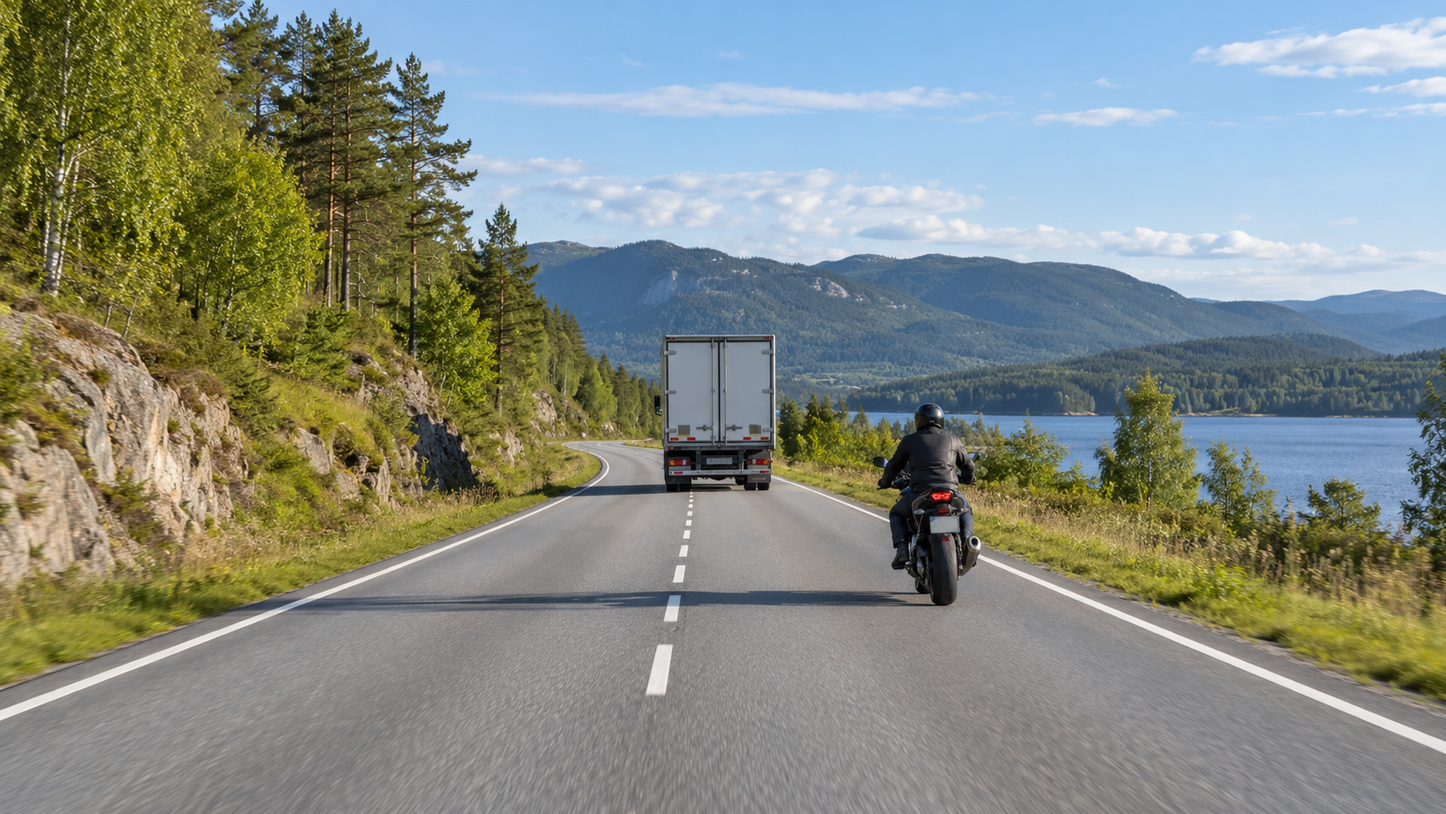motorcycle: (867, 394, 1014, 613)
person: (872, 399, 1006, 546)
truck: (662, 335, 782, 490)
